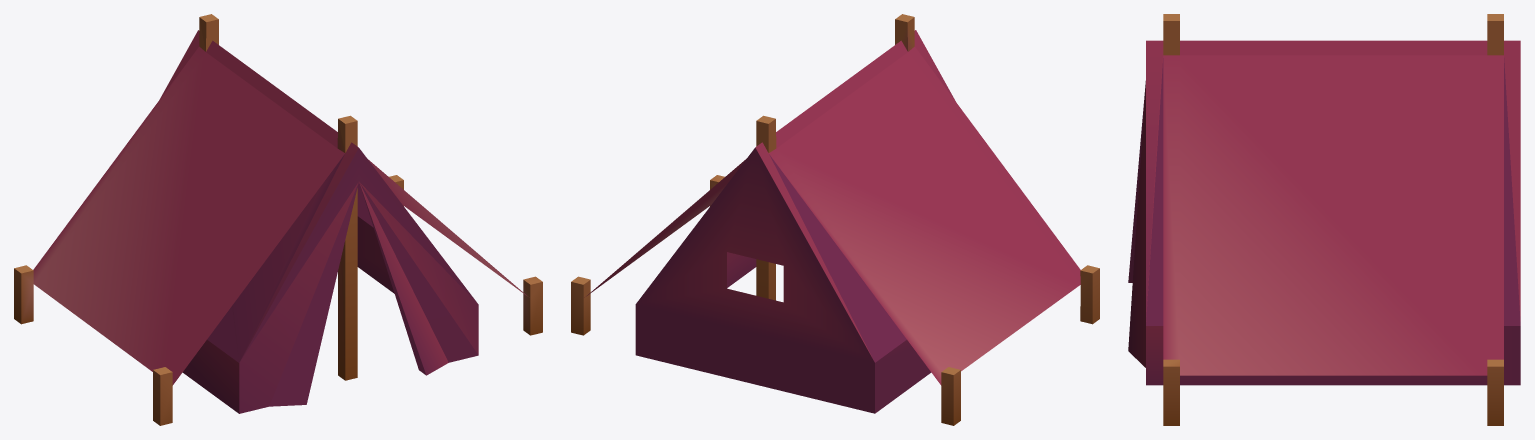
File: campfire-tent.fbx
3 views of the same model, side by side, from view 1: azimuth 30°, elevation 25°; view 2: azimuth 150°, elevation 25°; view 3: azimuth 270°, elevation 25° (orthographic). The views are drawn at different scales.
Visible parts, largest first — view 1: tent_detailedOpen; view 2: tent_detailedOpen; view 3: tent_detailedOpen.
Part boxes in pixels (box(x1,y1,x2,y2)): tent_detailedOpen: box(14, 14, 542, 425); tent_detailedOpen: box(571, 14, 1099, 425); tent_detailedOpen: box(1128, 14, 1520, 425).
Bounding box in the file's own units: 87.49 × 56.11 × 66.64.
